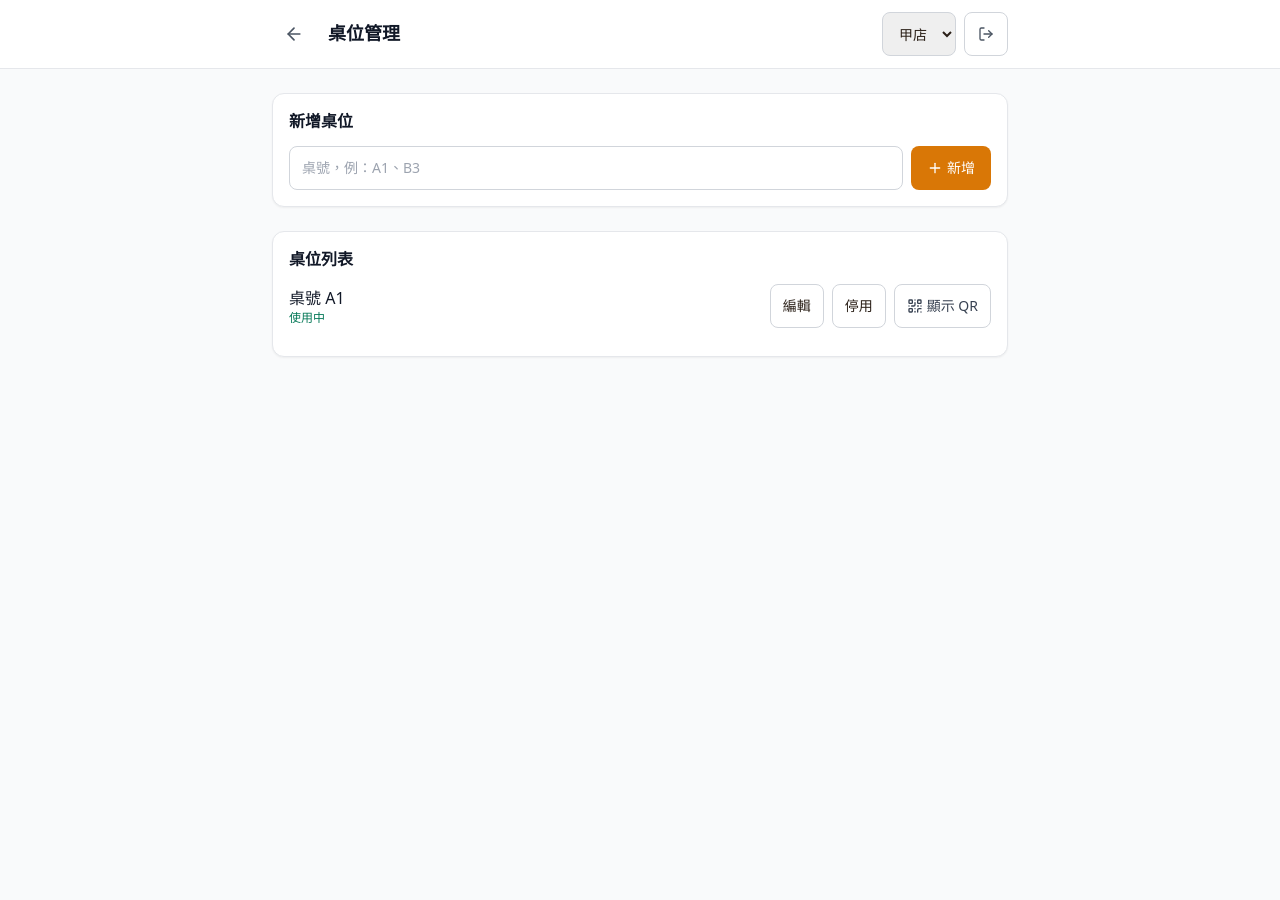
Scenario: 桌位編輯與停用 › 寫入衝突時重新取得資料而不自動重送
Click the button with aria-label "停用桌號 A1".
click(859, 306)  # box [832,284,886,328]
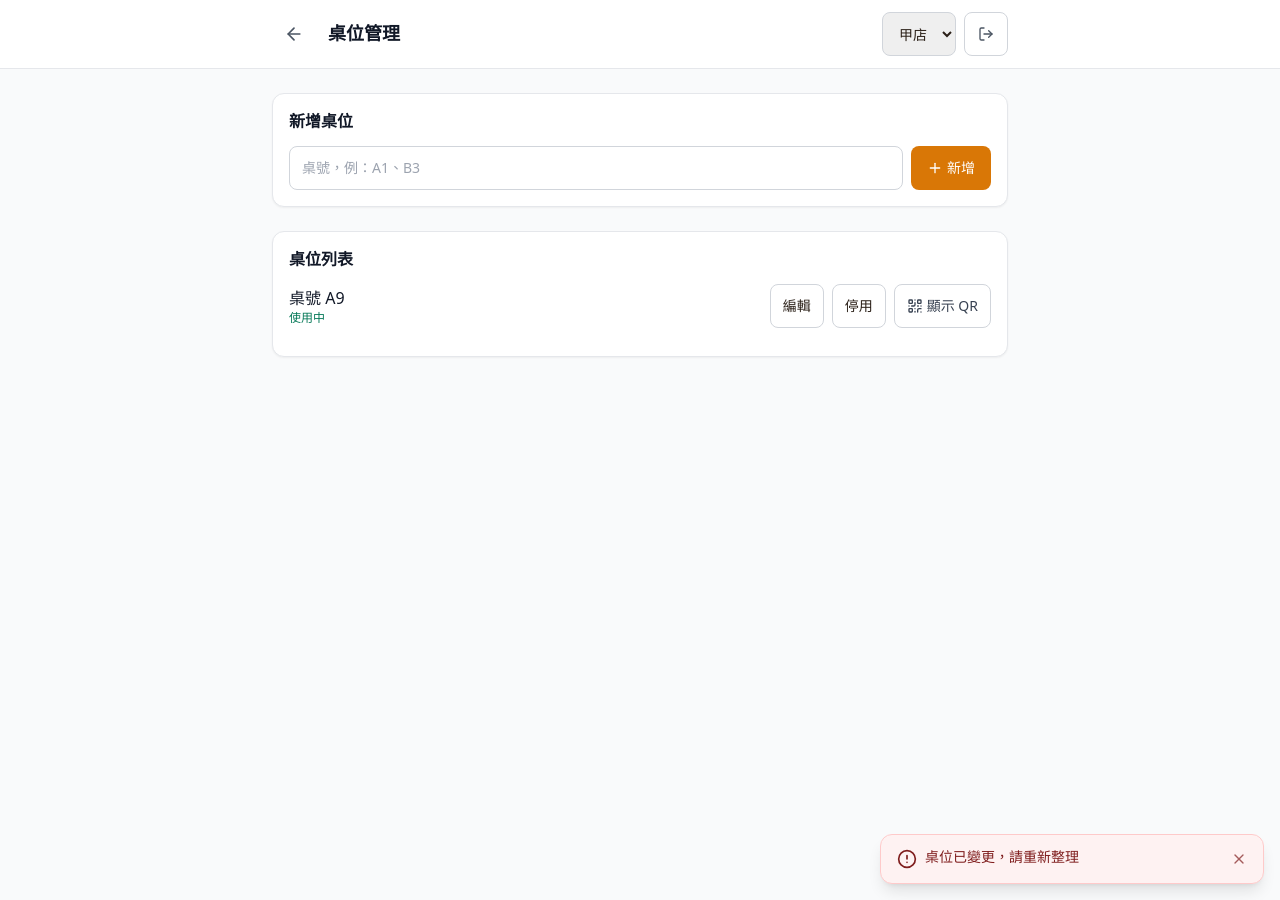
Expected: the text "桌號 A9" is shown, [289,286,345,310]
